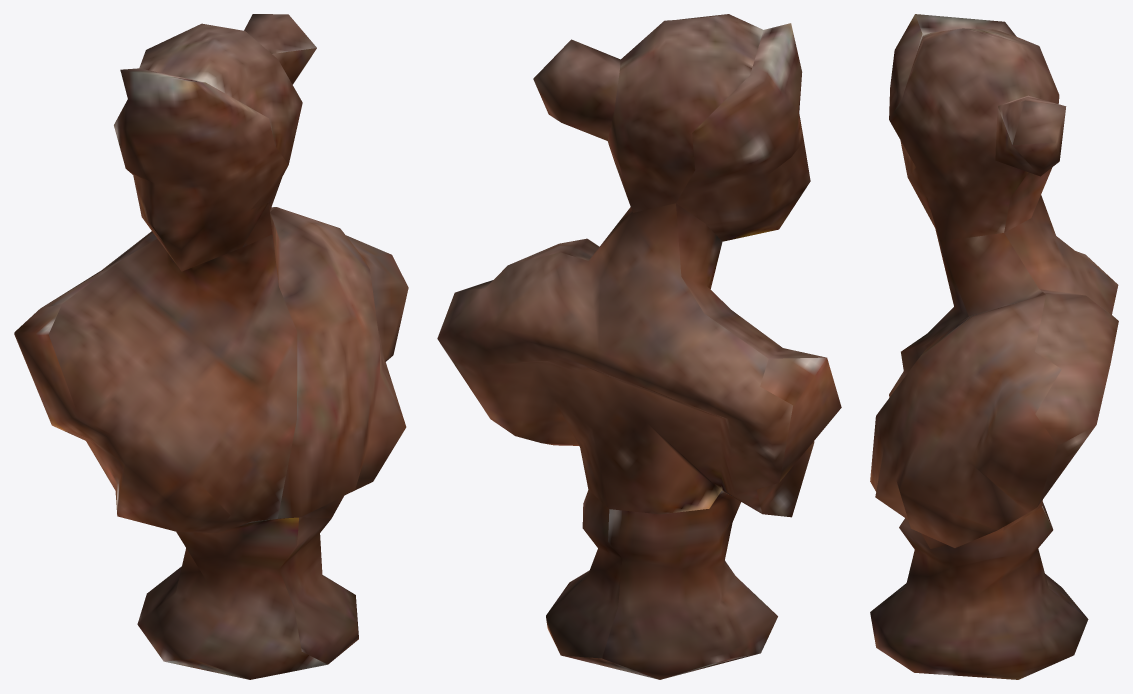
File: Q_StatueBust_dark.fbx
The picture shows the model from 3 angles, left to right: view 1: azimuth 30°, elevation 25°; view 2: azimuth 150°, elevation 25°; view 3: azimuth 270°, elevation 25°; orthographic projection. The views are drawn at different scales.
Visible parts, largest first — view 1: Aset_antique_sculpture_S_ug4kaisva_04_LOD5; view 2: Aset_antique_sculpture_S_ug4kaisva_04_LOD5; view 3: Aset_antique_sculpture_S_ug4kaisva_04_LOD5.
Boxes of the visible parts, left/top/right/bottom form: Aset_antique_sculpture_S_ug4kaisva_04_LOD5: left=14, top=14, right=408, bottom=679; Aset_antique_sculpture_S_ug4kaisva_04_LOD5: left=437, top=14, right=841, bottom=679; Aset_antique_sculpture_S_ug4kaisva_04_LOD5: left=870, top=14, right=1118, bottom=679.
Bounding box in the file's own units: 13.15 × 21.65 × 8.29.
